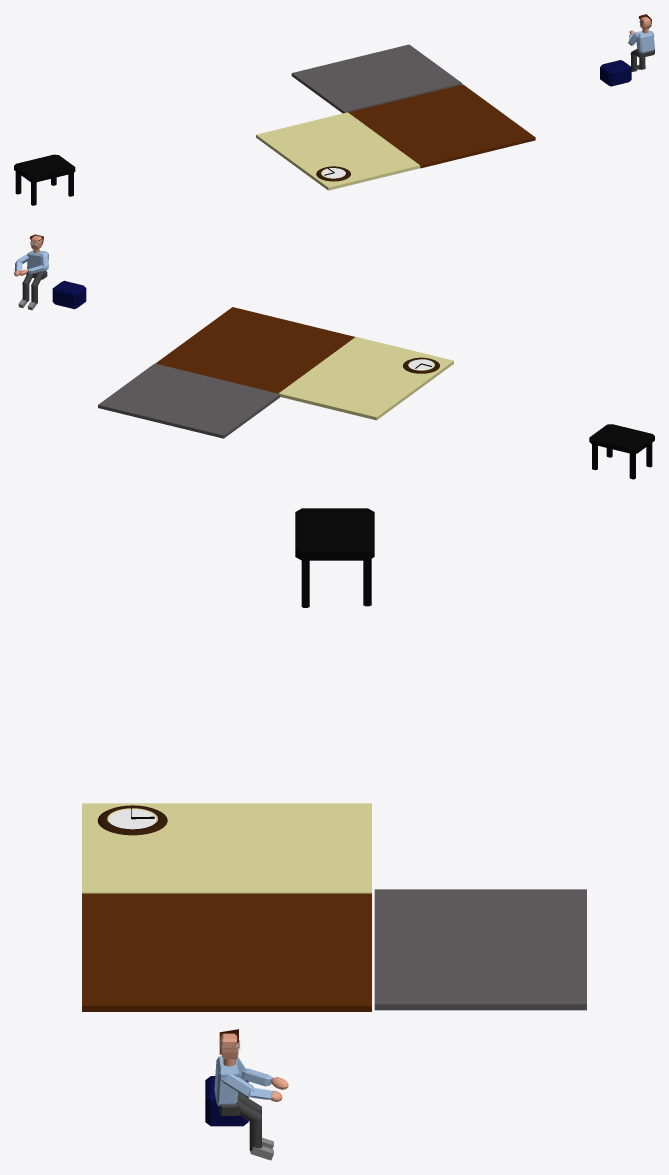
The model's file is adisetup23.glb.
The picture shows the model from 3 angles, top to bottom: view 1: azimuth 30°, elevation 25°; view 2: azimuth 150°, elevation 25°; view 3: azimuth 270°, elevation 25°; orthographic projection. The views are drawn at different scales.
Visible parts, largest first — view 1: Cube, Torus, Cube.002, Cube.004, Cube.011, Cube.005; view 2: Cube, Torus, Cube.002, Cube.004, Cube.011, Cube.005; view 3: Cube, Torus, Cube.002, Cube.004, Cube.011, Cube.005.
Boxes of the visible parts, x1,y1,x2,y2 form: Cube: [348, 84, 535, 168]; Torus: [256, 112, 420, 190]; Cube.002: [291, 44, 462, 113]; Cube.004: [14, 154, 75, 205]; Cube.011: [628, 14, 654, 71]; Cube.005: [600, 60, 631, 86]; Cube: [155, 307, 354, 393]; Torus: [279, 337, 453, 420]; Cube.002: [98, 363, 280, 438]; Cube.004: [589, 424, 654, 479]; Cube.011: [14, 234, 48, 310]; Cube.005: [52, 280, 86, 309]; Cube: [82, 893, 371, 1011]; Torus: [82, 803, 371, 893]; Cube.002: [374, 889, 586, 1010]; Cube.004: [295, 508, 374, 607]; Cube.011: [214, 1029, 288, 1160]; Cube.005: [205, 1076, 248, 1126].
Size of the model in its own units: 78.11 by 10.81 by 27.95.
